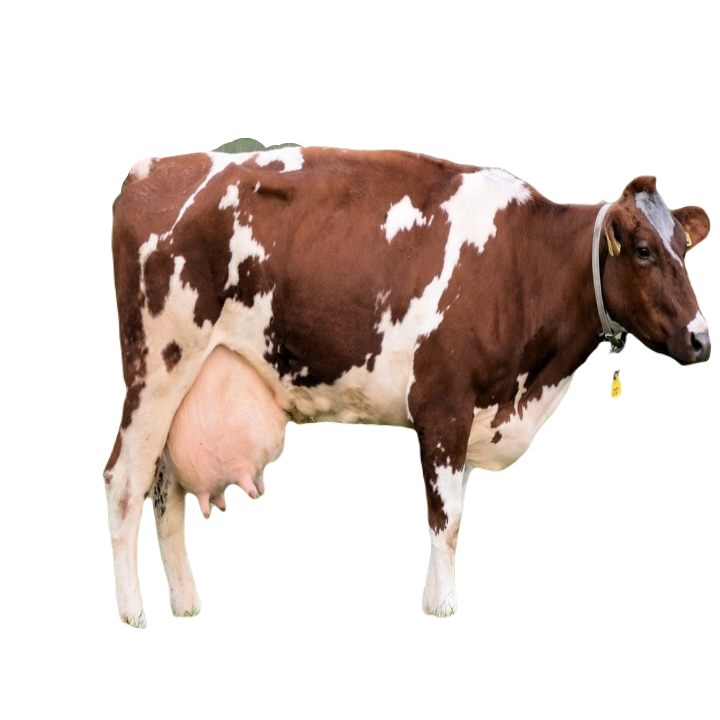Cow: (106, 146, 711, 624)
